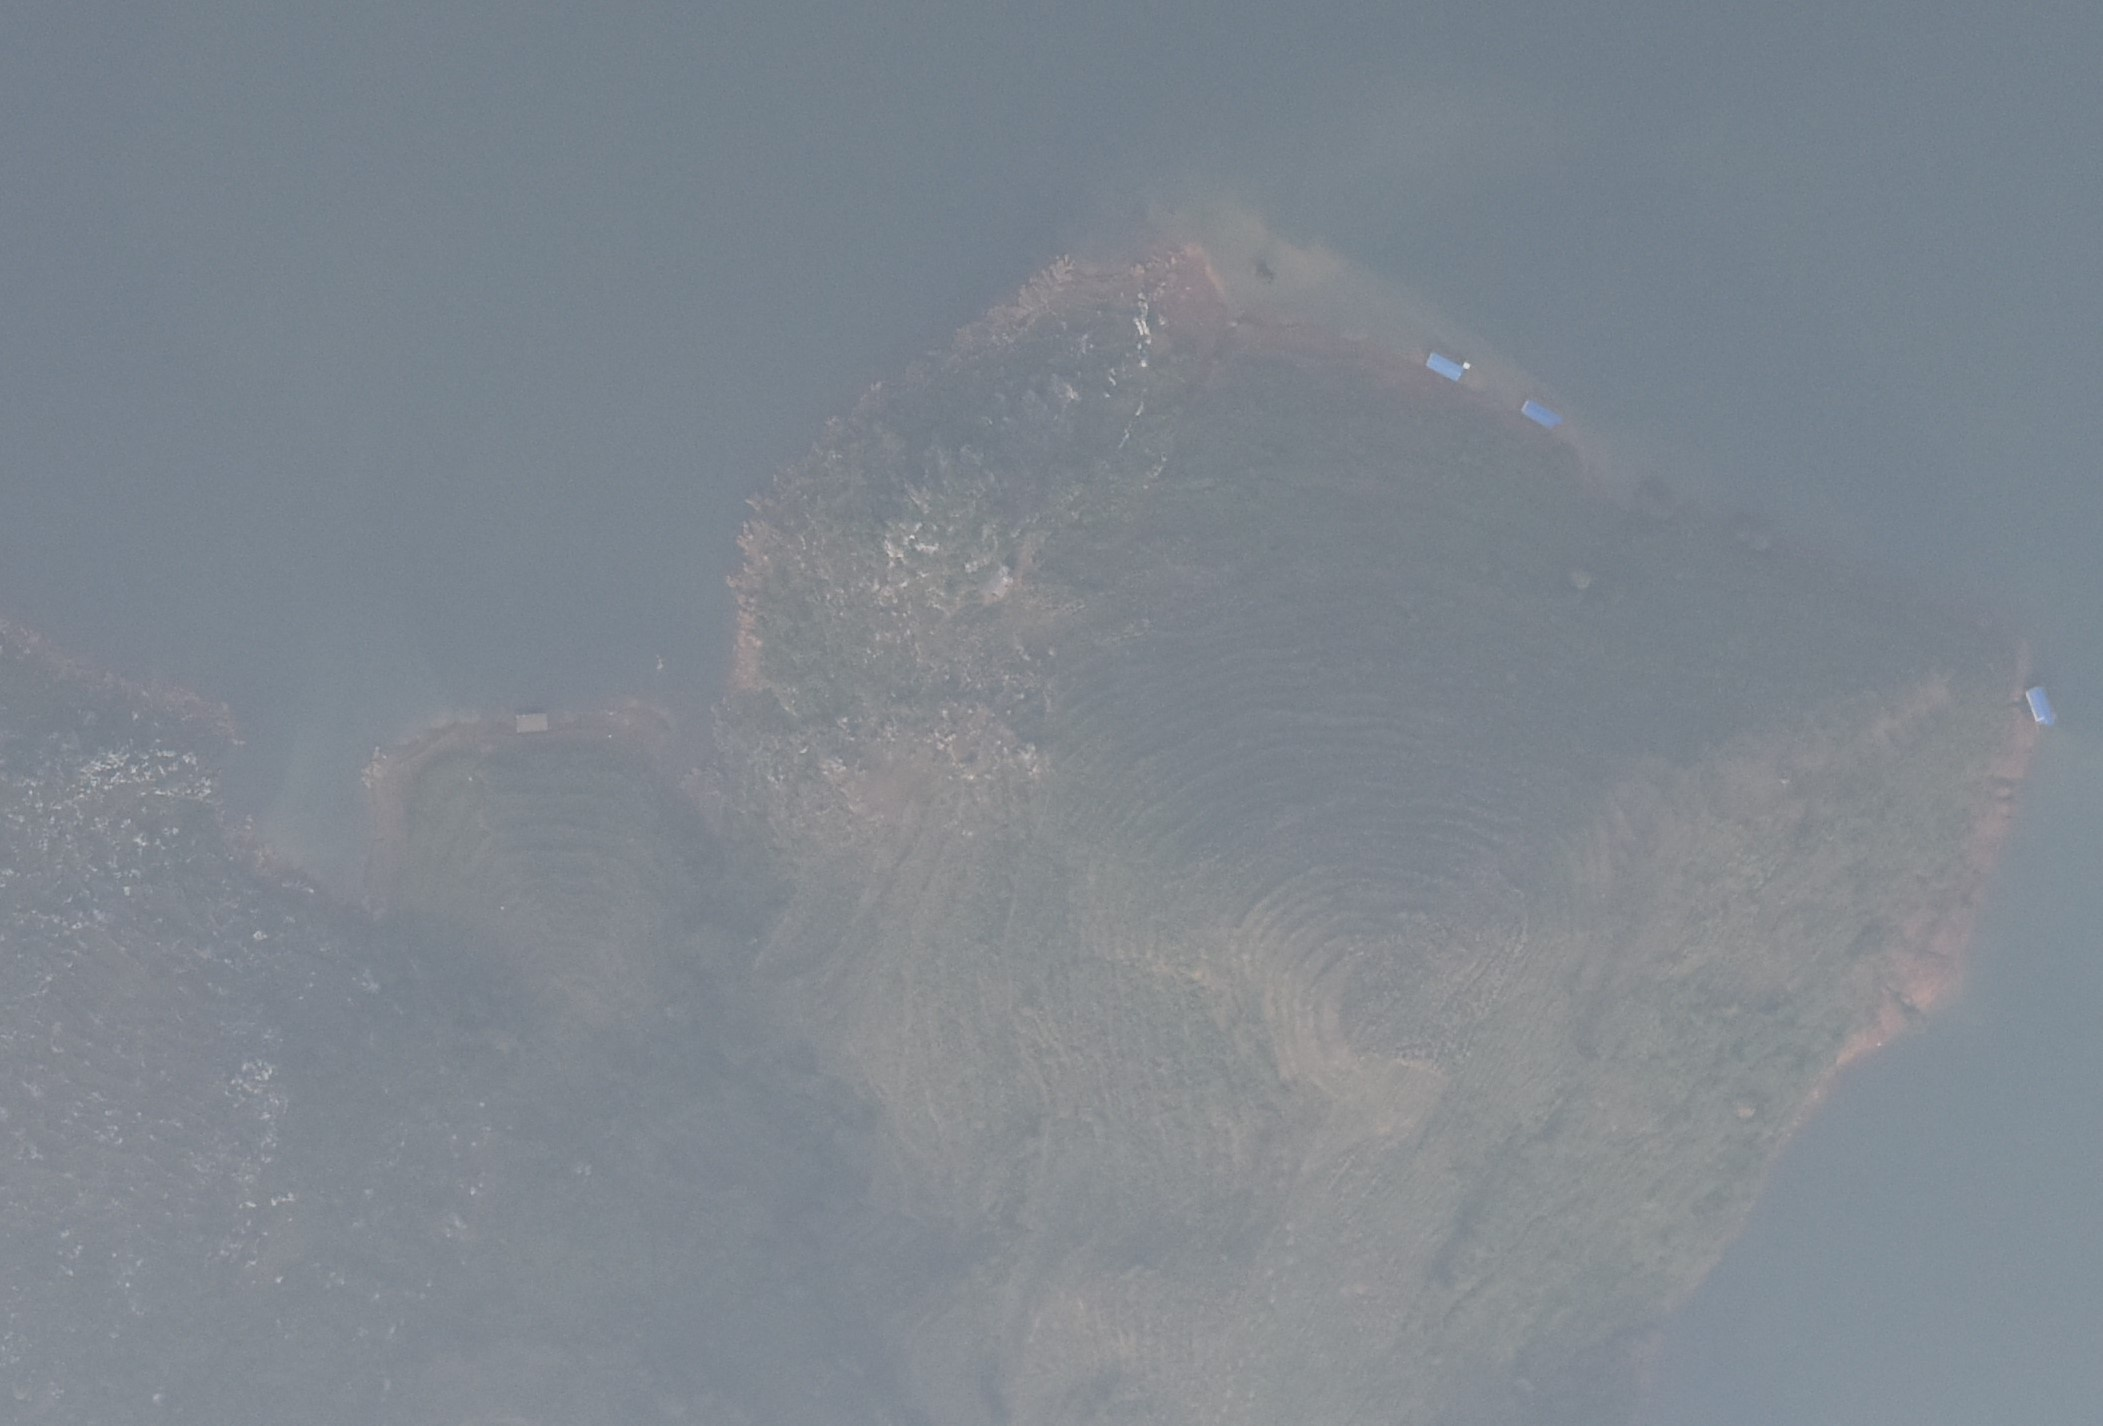building: (508, 710, 552, 735)
prefabricated-house: (1518, 397, 1560, 431), (1424, 352, 1467, 383), (2022, 684, 2053, 725)
